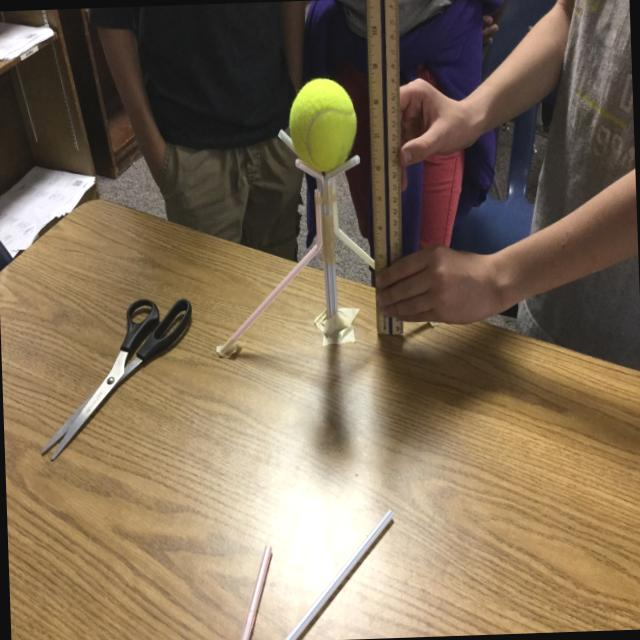Tennis ball: (286, 78, 358, 172)
